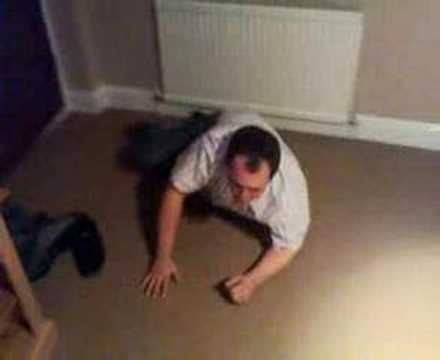collapsed: (55, 77, 440, 353)
